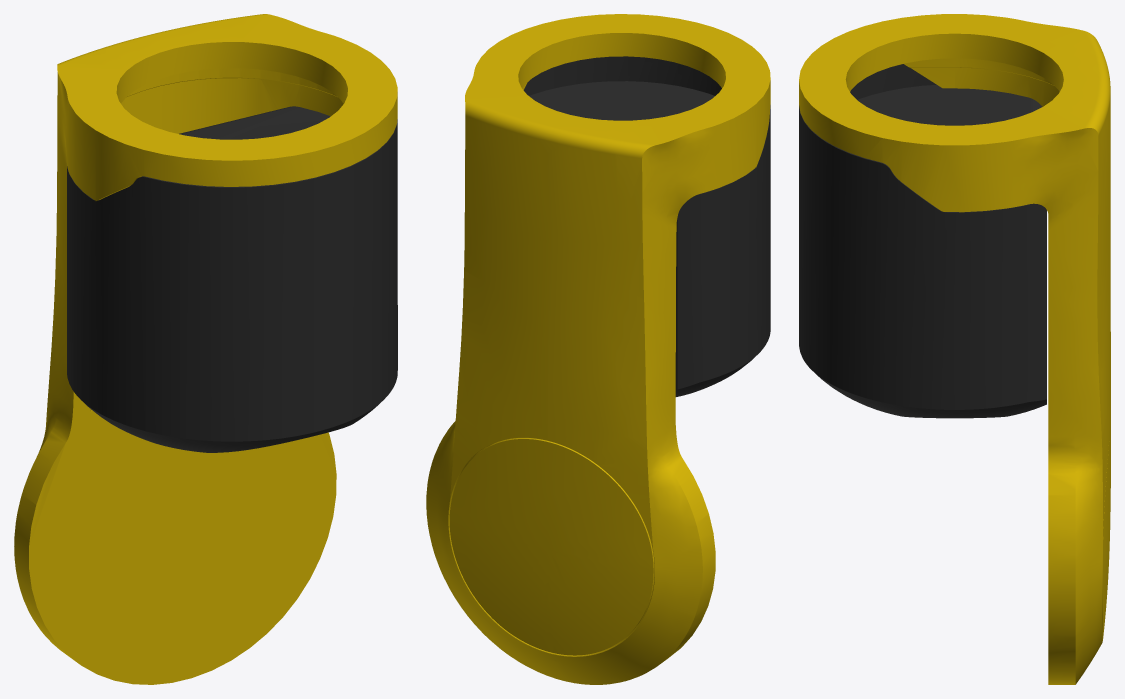
File: armr4.glb
The picture shows the model from 3 angles, left to right: view 1: azimuth 30°, elevation 25°; view 2: azimuth 150°, elevation 25°; view 3: azimuth 270°, elevation 25°; orthographic projection. The views are drawn at different scales.
Parts seen in each view (by area): view 1: right_j4; view 2: right_j4; view 3: right_j4.
Part boxes in pixels (box(x1,y1,x2,y2)): right_j4: box(14, 14, 397, 684); right_j4: box(426, 14, 770, 684); right_j4: box(799, 14, 1110, 684).
Size of the model in its own units: 0.086 by 0.167 by 0.0801.
